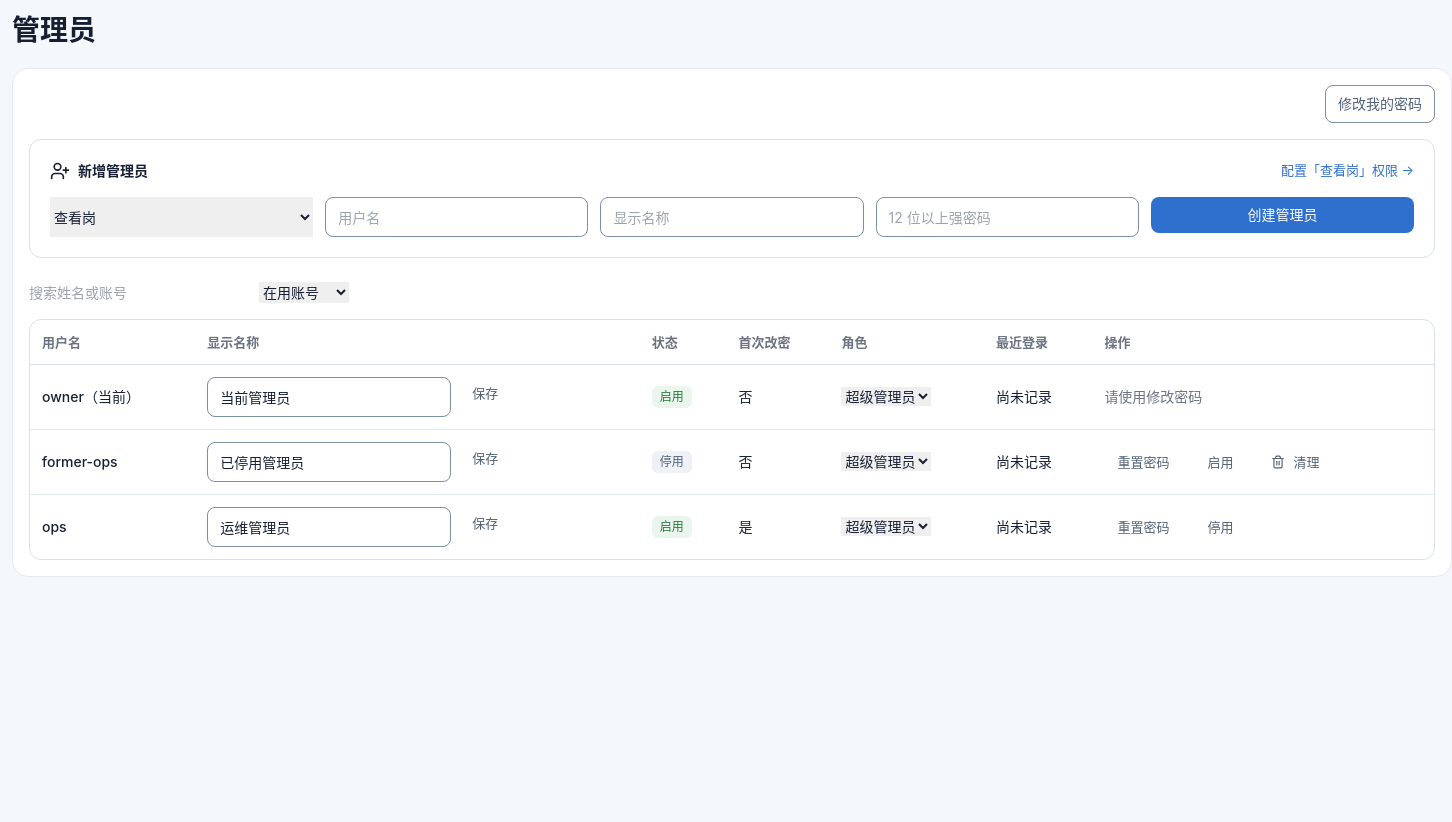
Test case: POOL-015 管理员管理 › 创建管理员后仅在一次性窗口展示初始密码
The image size is (1452, 822).
Step 1. Type "new-admin" into the field named "管理员用户名" → (457, 217), box [325,197,588,237]
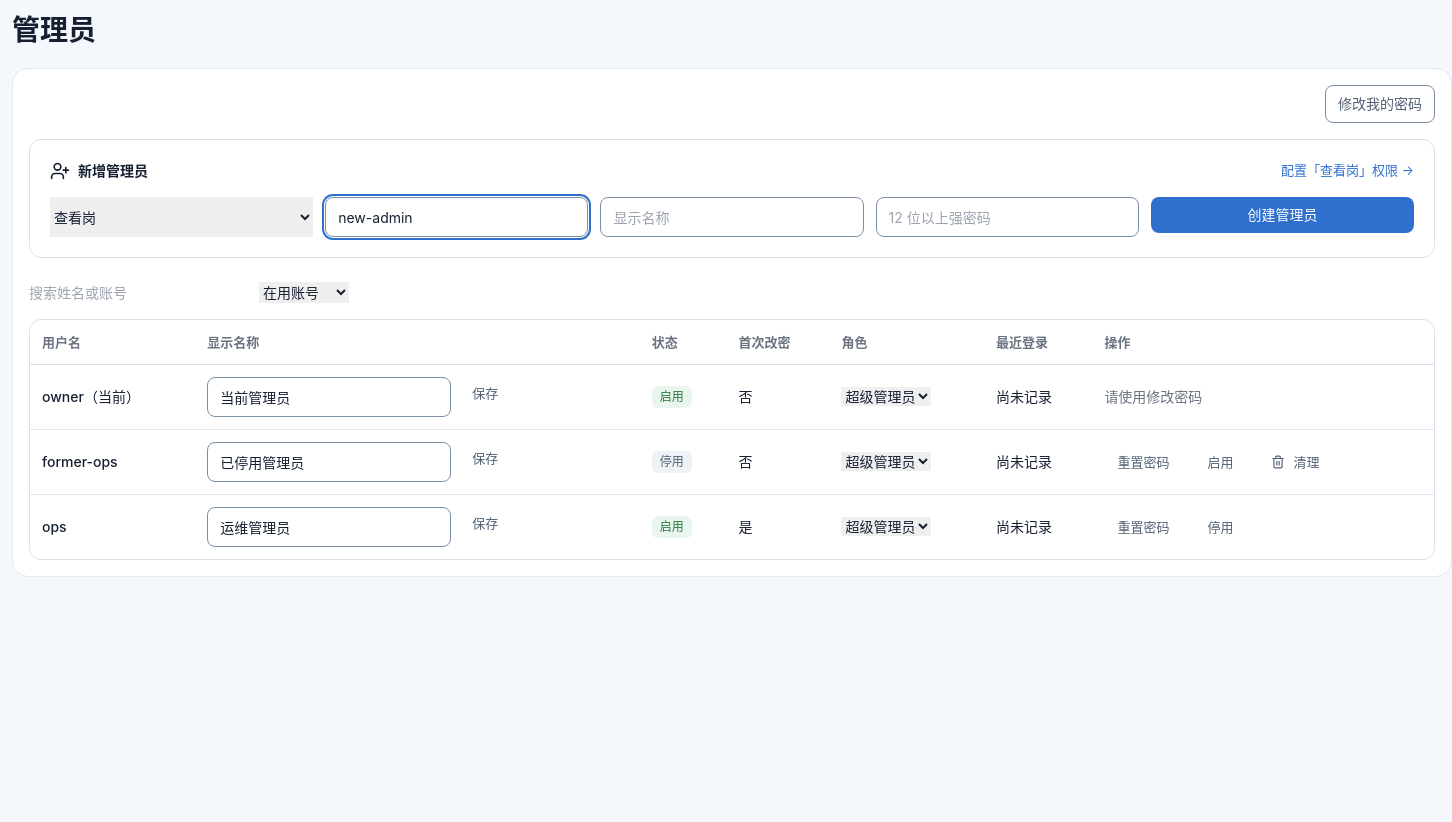
Step 2. Type "新管理员" into the field named "管理员显示名称" → (732, 217), box [600,197,864,237]
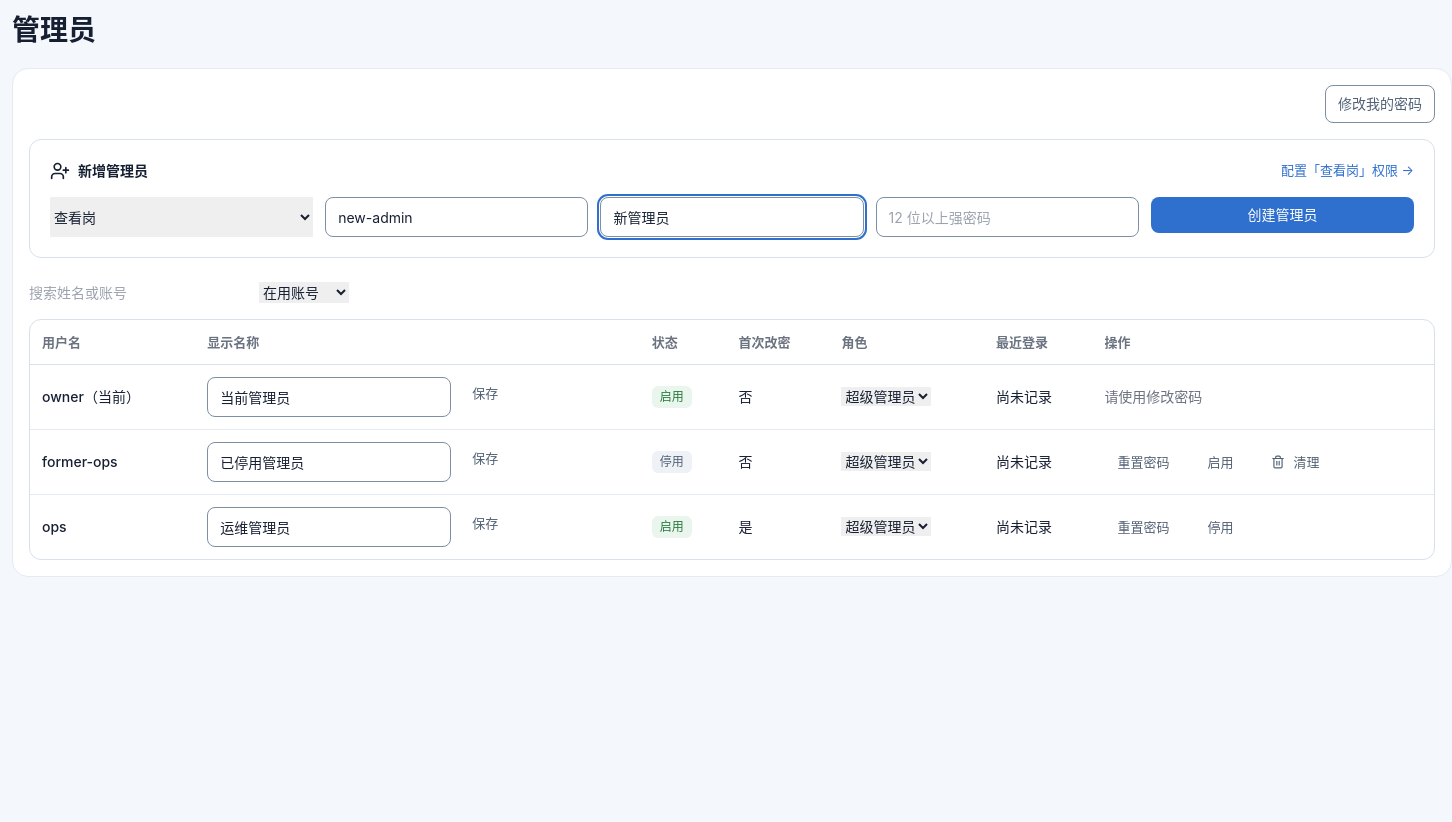
Step 3. Type "StrongPass!2026" into the password field named "管理员初始密码" → (1007, 217), box [876,197,1139,237]
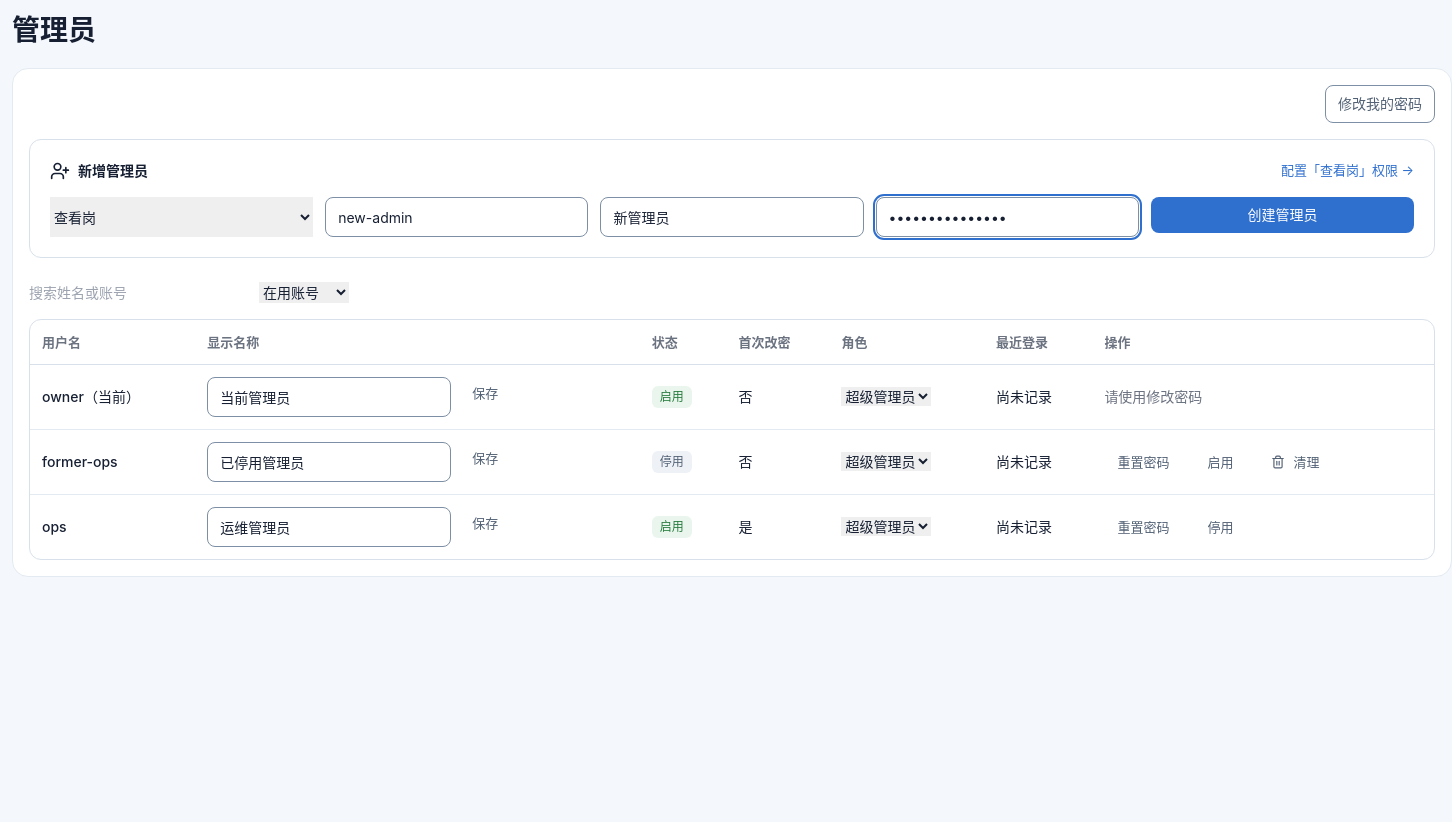
Step 4. Click the button "创建管理员" → (1282, 215), box [1151,197,1414,233]
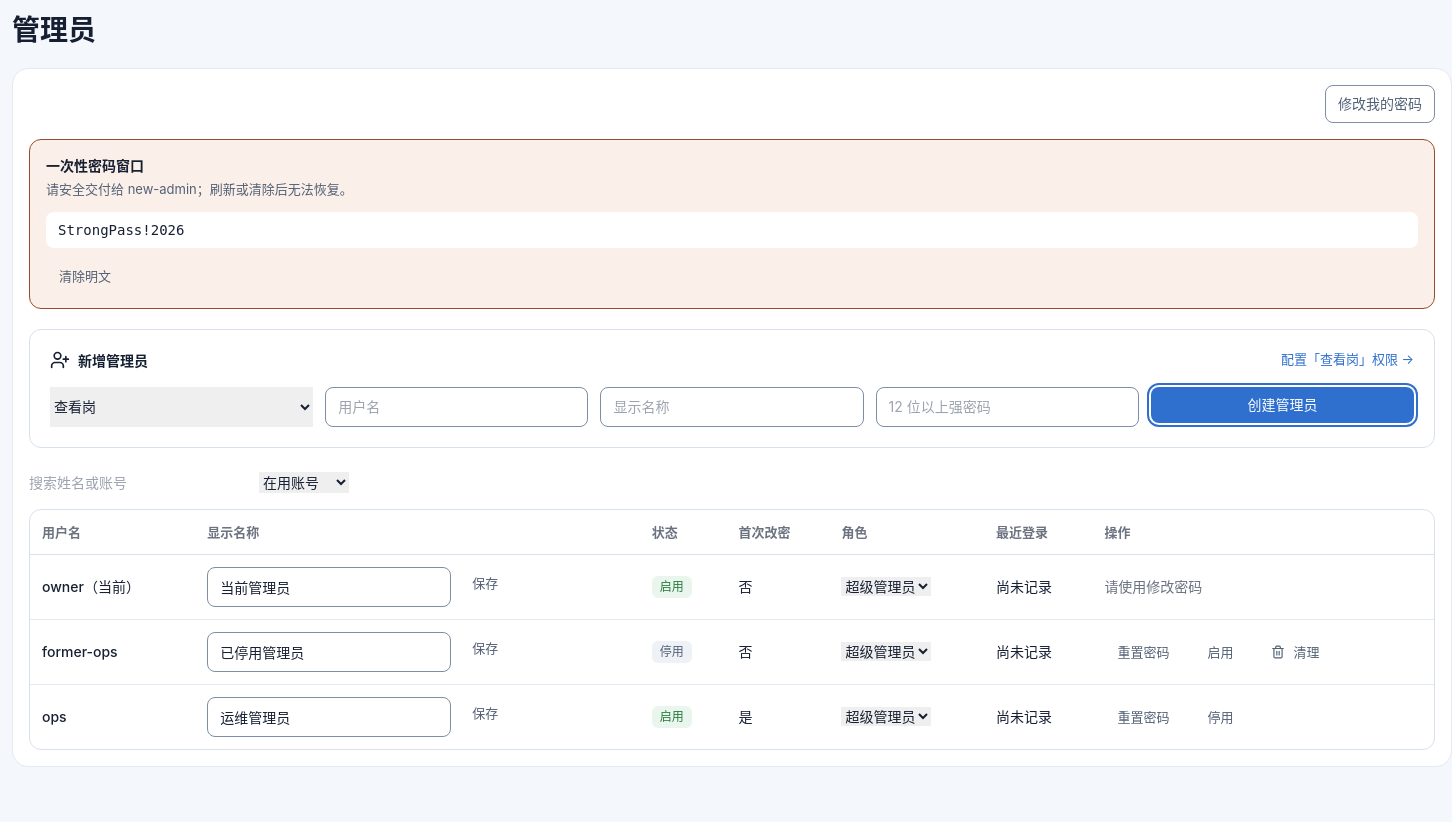
Expected: the text "StrongPass!2026" is shown, [46,212,1418,248]
Step 5. Click the button "清除明文" → (85, 276), box [46,260,124,292]
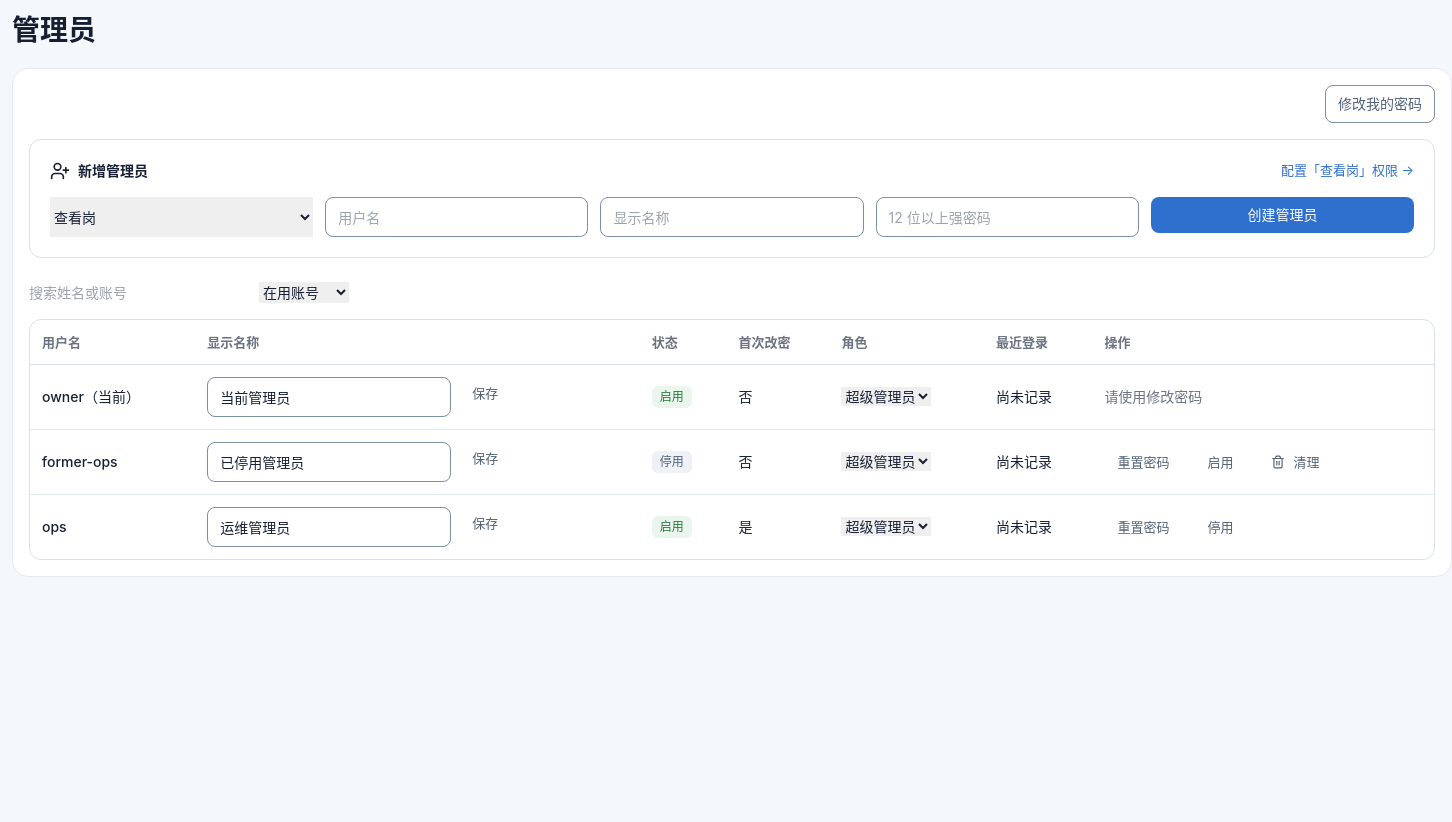
Expected: the text "StrongPass!2026" is gone
